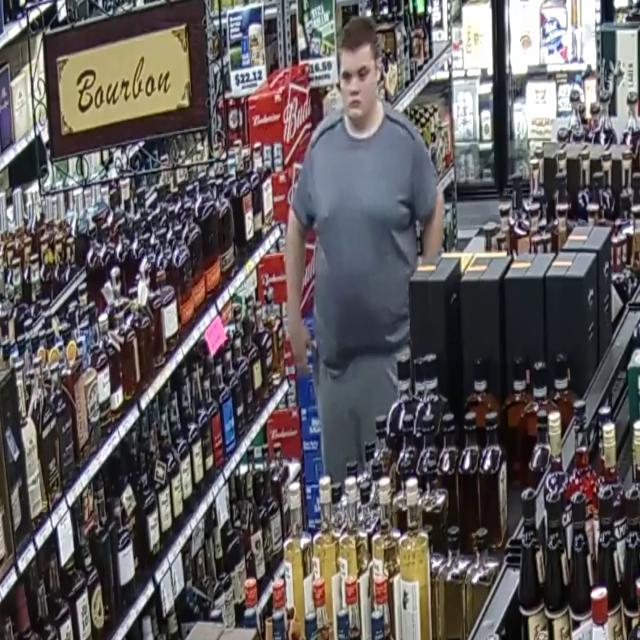normal: (224, 0, 469, 587)
